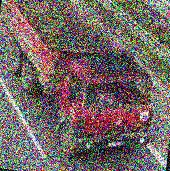truck: (0, 0, 168, 169)
